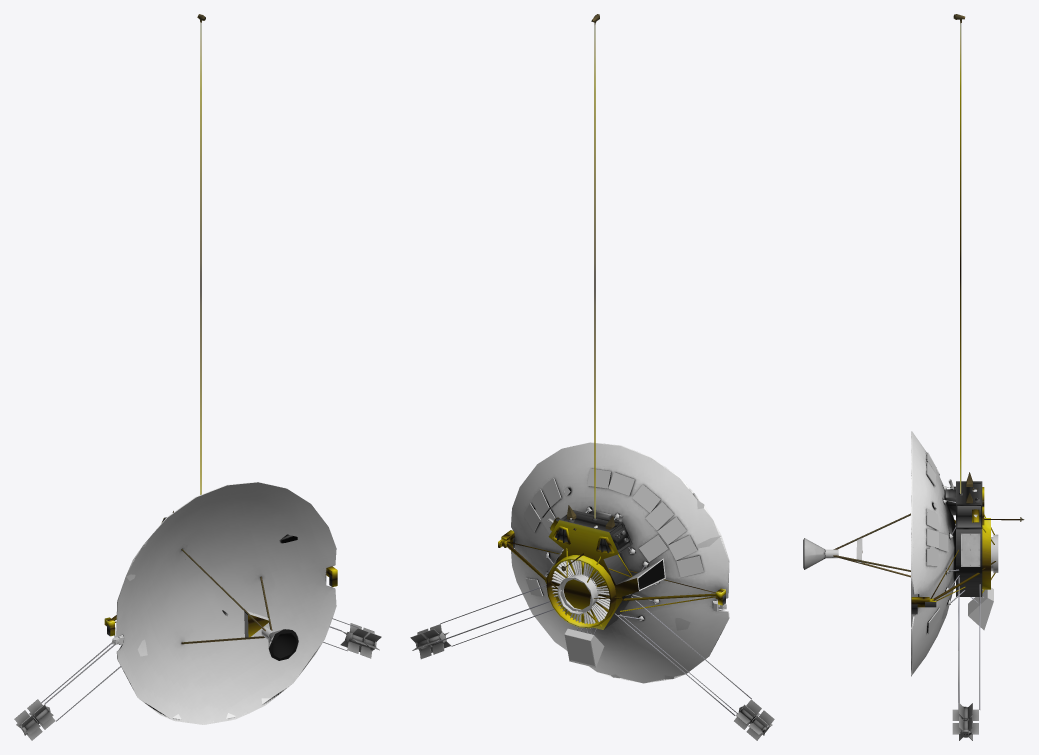
File: pioneer.glb
The picture shows the model from 3 angles, left to right: view 1: azimuth 30°, elevation 25°; view 2: azimuth 150°, elevation 25°; view 3: azimuth 270°, elevation 25°; orthographic projection. The views are drawn at different scales.
Visible parts, largest first — view 1: AO_dish, AO_rtg, Foil_gold, Tex_02, Tex_black; view 2: AO_dish, Foil_gold, Norm_silver, Silver, Foil_silver, AO_rtg, Tex_02; view 3: AO_dish, Foil_silver, Foil_gold, Silver, Tex_02, Norm_silver, AO_rtg, Tex_01.
Boxes of the visible parts, x1,y1,x2,y2 form: AO_dish: (116, 482, 336, 724); AO_rtg: (14, 623, 381, 740); Foil_gold: (104, 22, 337, 637); Tex_02: (41, 14, 358, 721); Tex_black: (268, 629, 298, 660); AO_dish: (511, 442, 729, 683); Foil_gold: (498, 23, 725, 629); Norm_silver: (523, 468, 703, 595); Silver: (526, 471, 726, 667); Foil_silver: (513, 510, 725, 629); AO_rtg: (410, 624, 774, 740); Tex_02: (435, 14, 751, 715); AO_dish: (804, 431, 955, 676); Foil_silver: (911, 481, 982, 614); Foil_gold: (862, 21, 1020, 607); Silver: (825, 452, 998, 633); Tex_02: (833, 14, 1024, 709); Norm_silver: (927, 454, 948, 633); AO_rtg: (952, 703, 978, 740); Tex_01: (961, 533, 980, 566).
Size of the model in its own units: 4.52 by 8.25 by 2.54.
11 materials, 8 textured.
